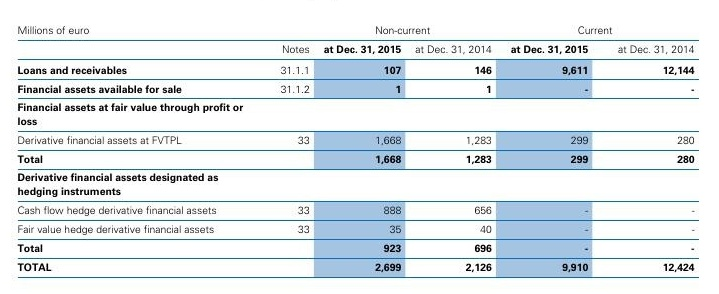table: (0, 0, 719, 294)
